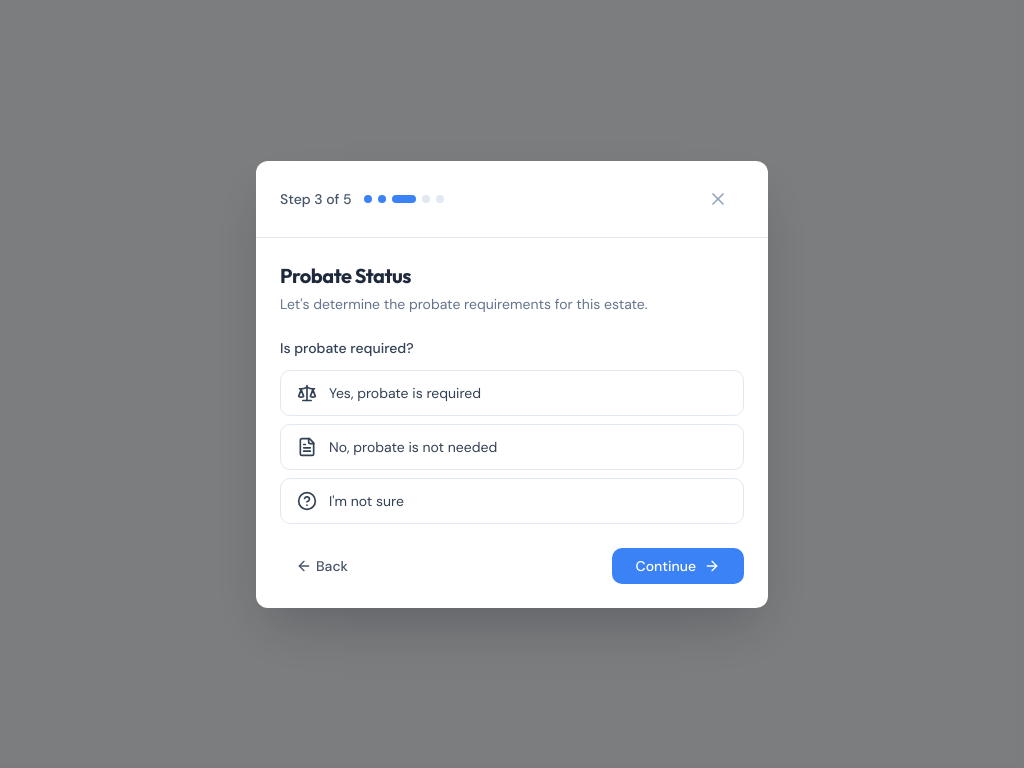
Test: OnboardingWizard › 13.2 Five-Step Wizard Flow › navigates from step 3 to step 4
Click the button with test id "wizard-probate-next". click: click(678, 566)
box: [612,548,744,584]
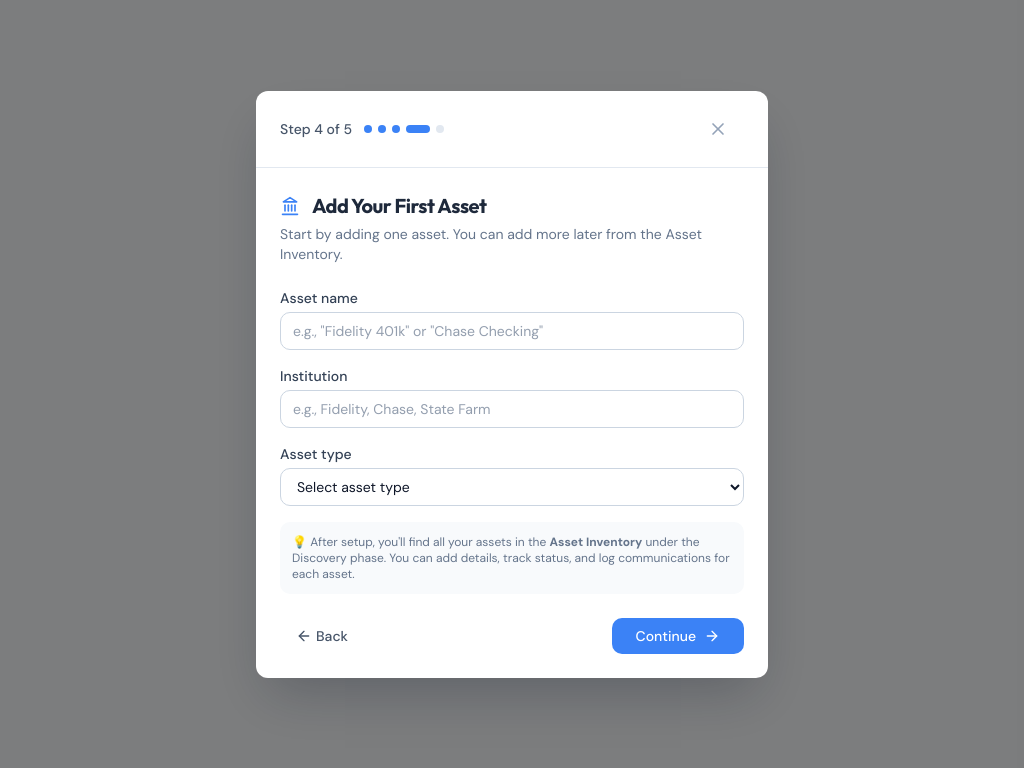
Check: the element with test id "wizard-step-first-asset" is shown, box [280,192,744,654]
